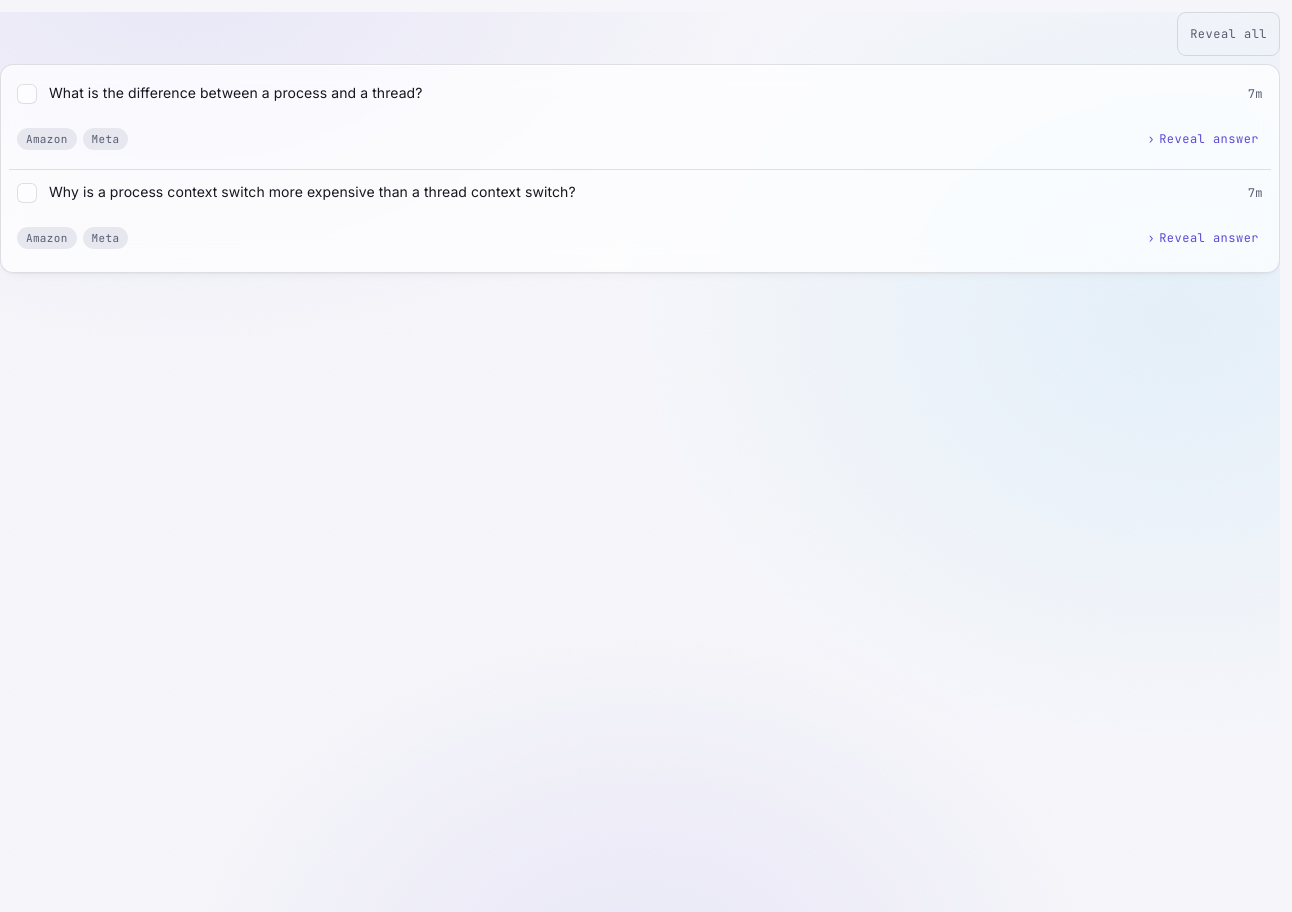
Test: CsFundamentalsTopic › reveals one question without affecting the others
Click the 1st button "› Reveal answer" at (1203, 139), box [1144,117,1263,161]
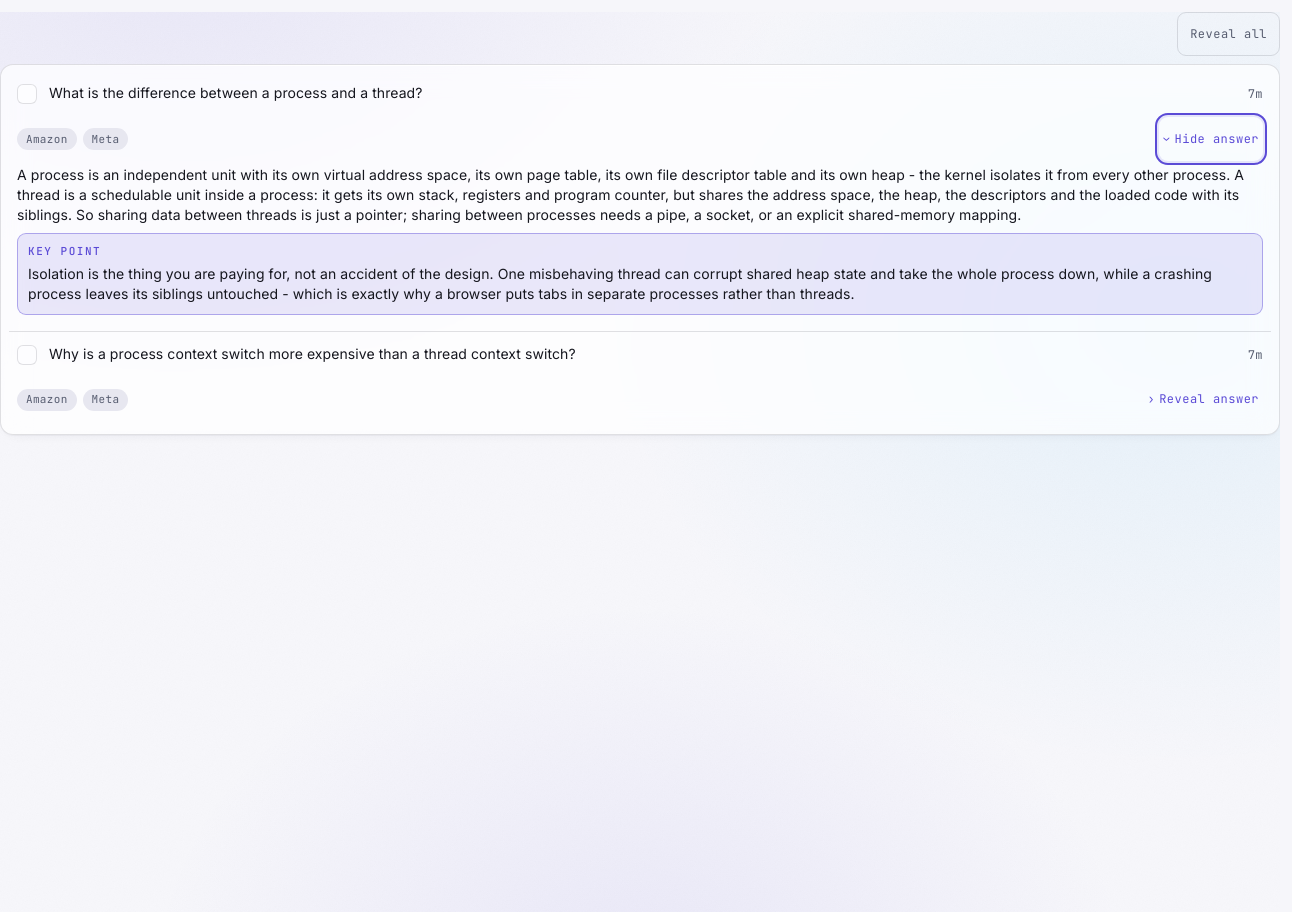
Expected: the text "A process is an independent unit with its own virtual address space, its own page table, its own file descriptor table a" is shown, [17,166,1244,223]
Expected: the text "Isolation is the thing you are paying for, not an accident of the design. One misbehaving thread can corrupt shared heap" is shown, [28,265,1212,302]
